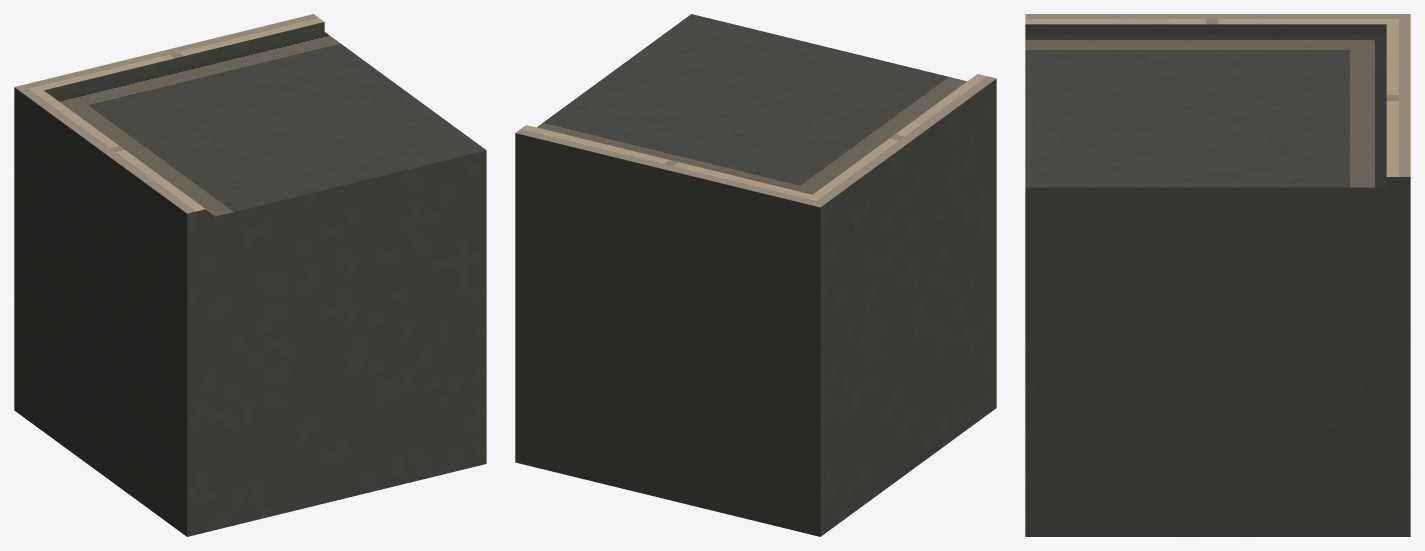
File: road_asphalt_to_sidewalk_outer_corner.gltf
3 views of the same model, side by side, from view 1: azimuth 30°, elevation 25°; view 2: azimuth 150°, elevation 25°; view 3: azimuth 270°, elevation 25° (orthographic). The views are drawn at different scales.
Parts seen in each view (by area): view 1: block_sides, transition_top; view 2: block_sides, transition_top; view 3: block_sides, transition_top.
Boxes of the visible parts, x1,y1,x2,y2 form: block_sides: (14, 22, 486, 536); transition_top: (14, 14, 486, 218); block_sides: (515, 79, 996, 536); transition_top: (516, 14, 996, 207); block_sides: (1025, 24, 1410, 536); transition_top: (1025, 14, 1410, 187).
Size of the model in its own units: 2 by 2.06 by 2.
Materials: 2 (2 with a texture image).
